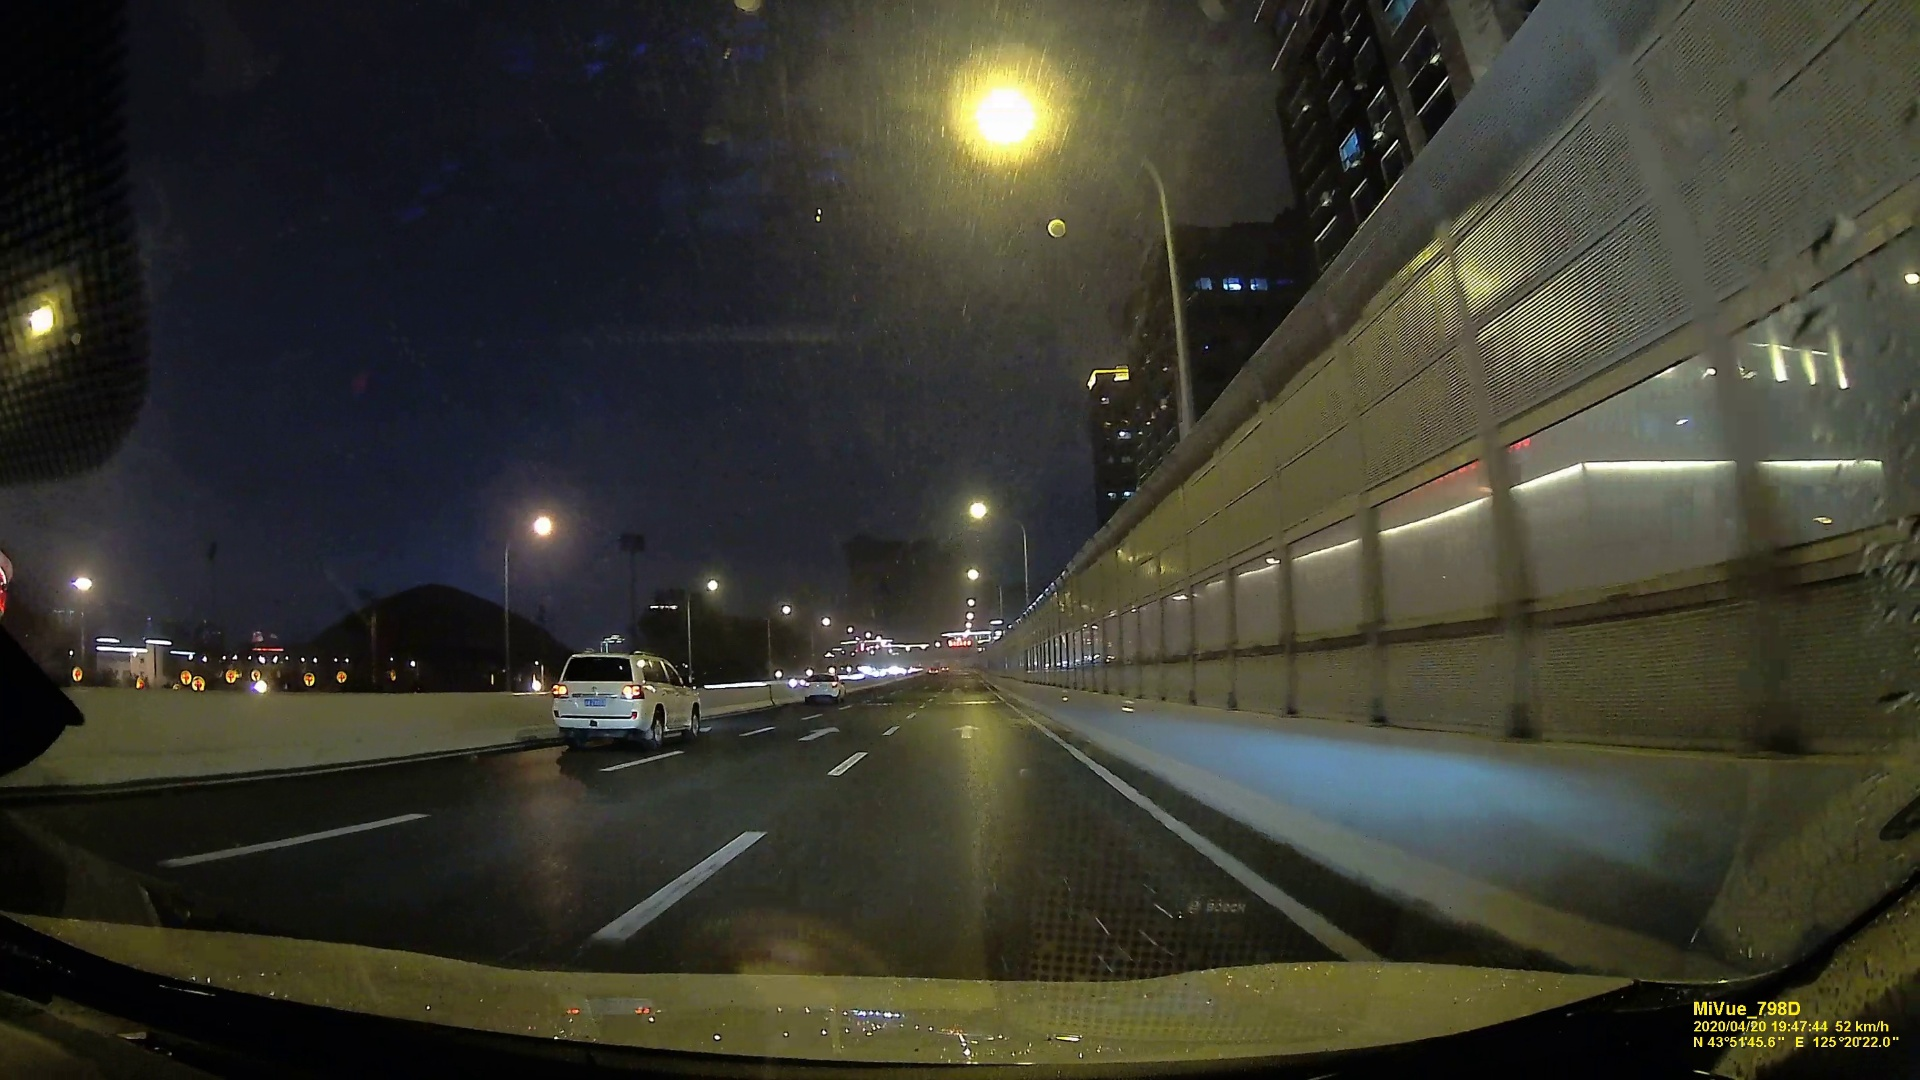vehicle: (547, 647, 702, 749), (795, 670, 843, 703)
